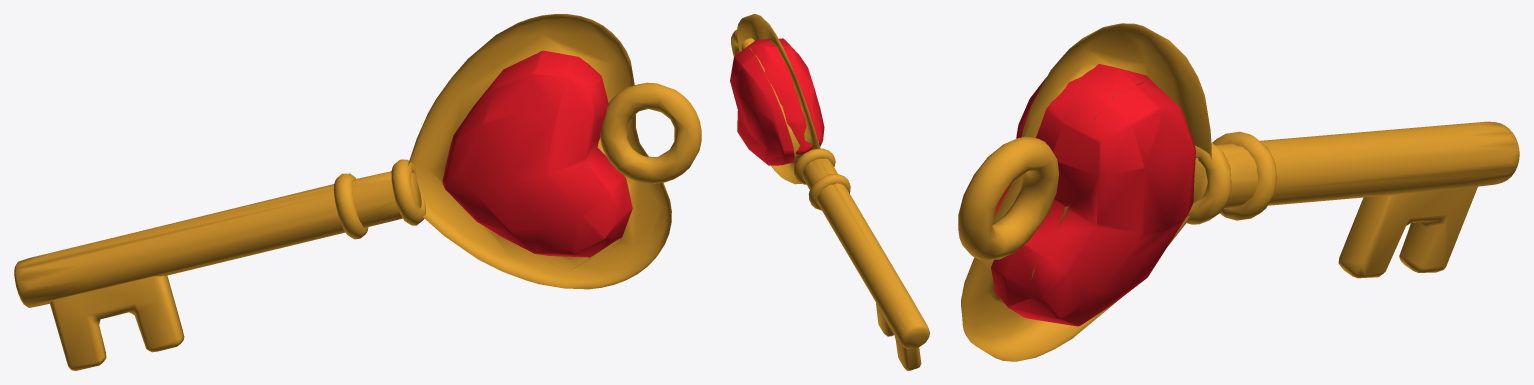
File: Key.glb
The picture shows the model from 3 angles, left to right: view 1: azimuth 30°, elevation 25°; view 2: azimuth 150°, elevation 25°; view 3: azimuth 270°, elevation 25°; orthographic projection. The views are drawn at different scales.
Visible parts, largest first — view 1: 3d66-Editable_Poly-21914820-001, 3d66-Editable_Poly-21914820-002; view 2: 3d66-Editable_Poly-21914820-001, 3d66-Editable_Poly-21914820-002; view 3: 3d66-Editable_Poly-21914820-001, 3d66-Editable_Poly-21914820-002.
Boxes of the visible parts, <box> form: 3d66-Editable_Poly-21914820-001: <box>14,14,701,370</box>; 3d66-Editable_Poly-21914820-002: <box>442,50,632,257</box>; 3d66-Editable_Poly-21914820-001: <box>731,14,929,370</box>; 3d66-Editable_Poly-21914820-002: <box>730,38,824,165</box>; 3d66-Editable_Poly-21914820-001: <box>958,23,1519,361</box>; 3d66-Editable_Poly-21914820-002: <box>991,64,1195,326</box>.
Bounding box in the file's own units: 0.8084 × 0.5624 × 0.6129.
